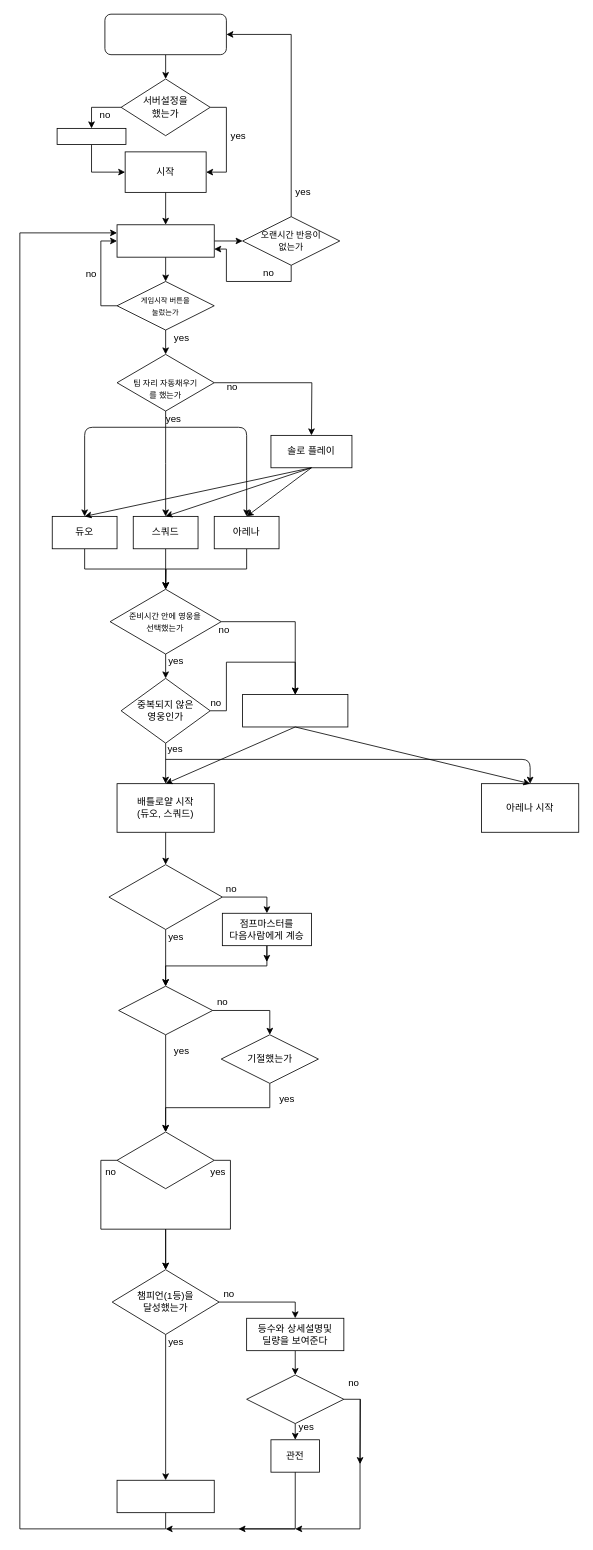
Some shapes in this 593 by 1550 pixel diagram are drawn without their labels. Each missing label, with the centre of its shape:
게임 대기화면: (x=165, y=240)
관전을 하는가: (x=295, y=1399)
서버 자동할당: (x=91, y=136)
시작화면: (x=165, y=34)
점프마스터가 영웅선택시 반응이 있었는가: (x=165, y=896)
죽었는가: (x=165, y=1010)
중복되지 않고 최근에 플레이한 영웅 자동선택: (x=295, y=710)
챔피언 씬을 보여준다: (x=165, y=1496)
팀원이 살릴 수 있는가: (x=165, y=1160)
